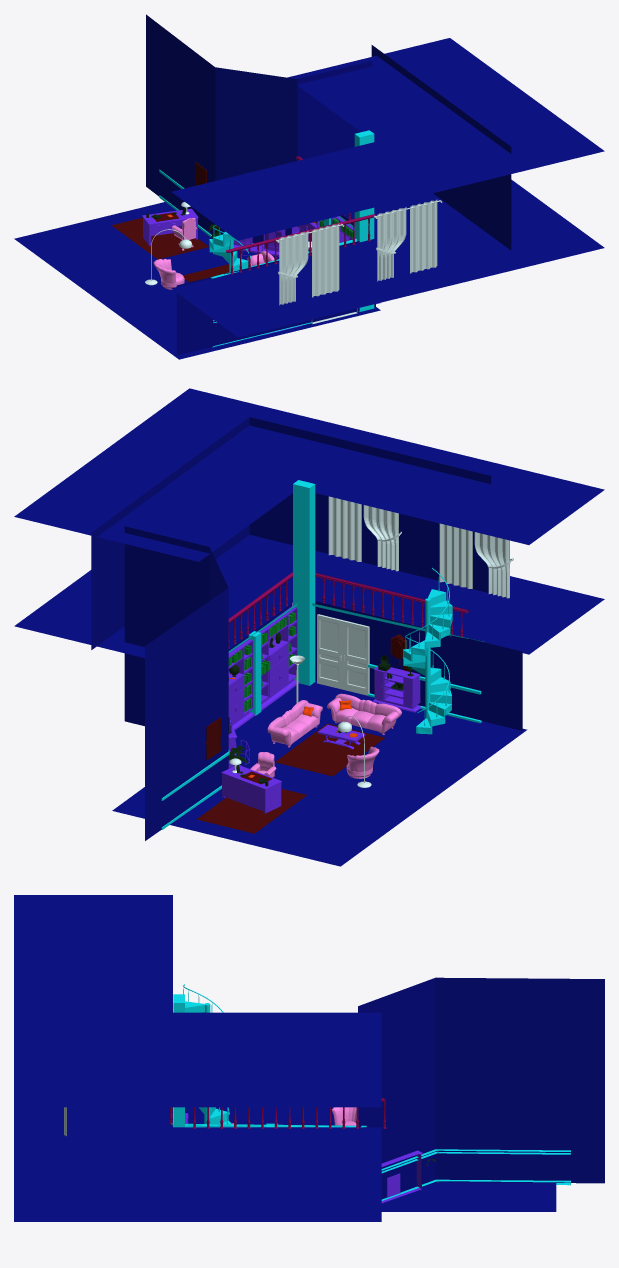
File: MAISONANNA_Pack4.FBX
3 views of the same model, one above another, from view 1: azimuth 30°, elevation 25°; view 2: azimuth 150°, elevation 25°; view 3: azimuth 270°, elevation 25° (orthographic). The views are drawn at different scales.
Parts seen in each view (by area): view 1: TOIT, Plane006, Plane004, Plane001, Plane005, rideaux001, rideaux, Plane002, TAPIS001, Pillier, Box007, escalier_spirale (+3 smaller); view 2: TOIT, Plane006, Plane001, Plane004, Plane005, Plane002, Pillier, escalier_spirale, porte_fond, rideaux001, rideaux, TAPIS (+9 smaller); view 3: TOIT, Plane006, Plane004, Plane001, escalier_spirale, cheminee, Box009, Object001, Pillier.
Boxes of the visible parts, x1,y1,x2,y2 form: TOIT: [171, 38, 604, 240]; Plane006: [146, 14, 372, 243]; Plane004: [171, 179, 604, 337]; Plane001: [14, 202, 380, 359]; Plane005: [371, 45, 511, 250]; rideaux001: [276, 223, 344, 305]; rideaux: [374, 199, 442, 281]; Plane002: [176, 237, 375, 355]; TAPIS001: [111, 217, 208, 259]; Pillier: [354, 130, 374, 311]; Box007: [142, 208, 198, 245]; escalier_spirale: [209, 225, 251, 272]; TOIT: [14, 388, 604, 561]; Plane006: [124, 526, 228, 840]; Plane001: [112, 680, 527, 866]; Plane004: [14, 534, 604, 657]; Plane005: [91, 417, 491, 649]; Plane002: [315, 601, 522, 730]; Pillier: [293, 480, 315, 685]; escalier_spirale: [403, 568, 452, 734]; porte_fond: [317, 614, 369, 695]; rideaux001: [439, 523, 513, 598]; rideaux: [328, 496, 401, 571]; TAPIS: [275, 723, 385, 776]; TOIT: [14, 895, 381, 1107]; Plane006: [358, 977, 604, 1199]; Plane004: [14, 1107, 381, 1221]; Plane001: [185, 1107, 556, 1211]; escalier_spirale: [183, 984, 230, 1124]; cheminee: [381, 1150, 423, 1203]; Box009: [435, 1149, 570, 1154]; Object001: [171, 1123, 366, 1127]; Pillier: [173, 994, 184, 1127].
Bounding box in the file's own units: 36268 × 16566 × 42668.
